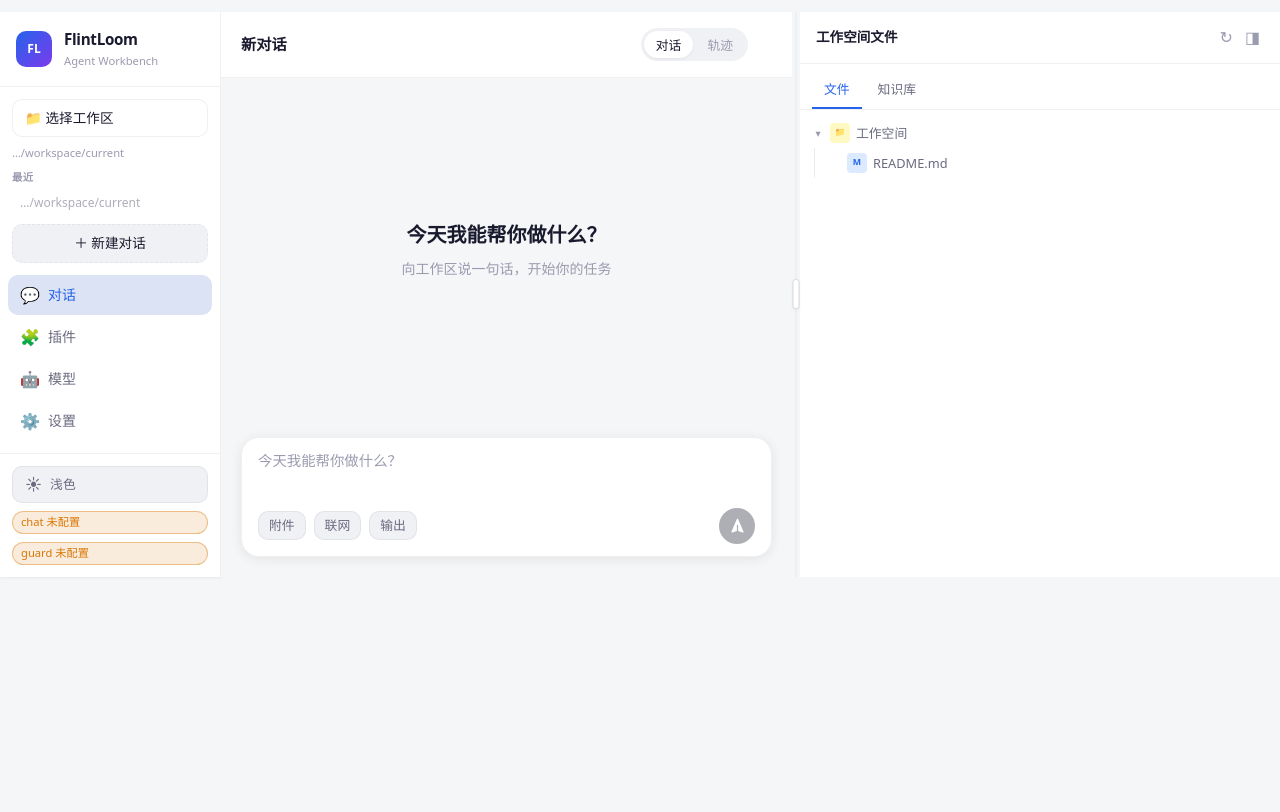
Test: App › shows root folder context menu on right-click
Right-click the list item with class "file-label": (882, 133) 804,118 -> 1276,148
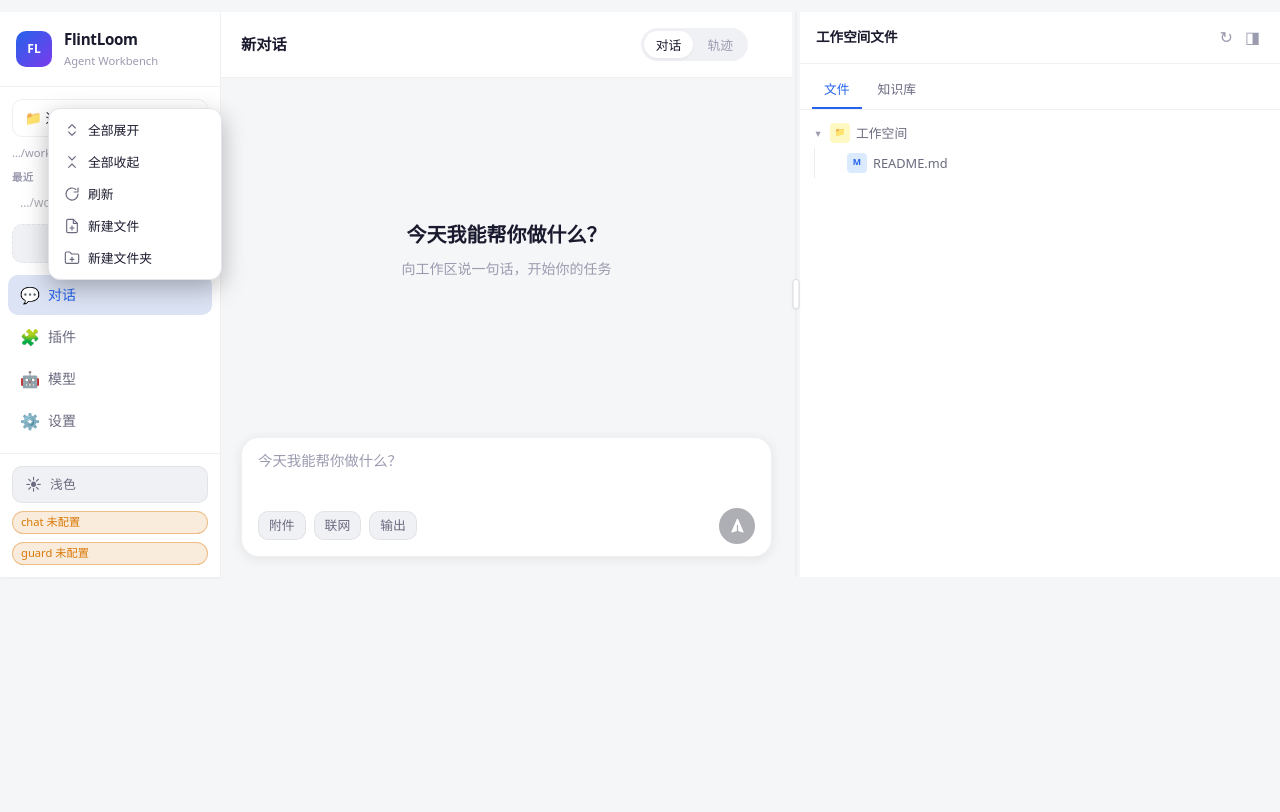
Expected: the menu item "全部展开" is shown, 55,115 -> 215,145
Expected: the menu item "全部收起" is shown, 55,147 -> 215,177
Expected: the menu item "新建文件" is shown, 55,211 -> 215,241
